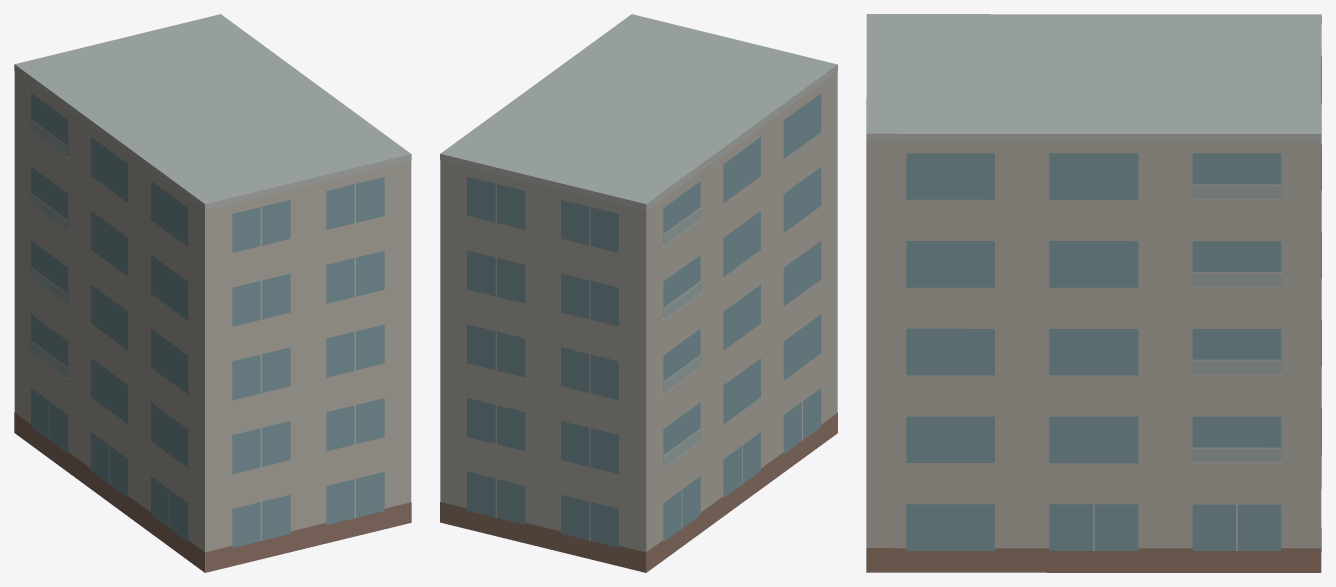
Rendered from survey-upis-32977775.glb.
The picture shows the model from 3 angles, left to right: view 1: azimuth 30°, elevation 25°; view 2: azimuth 150°, elevation 25°; view 3: azimuth 270°, elevation 25°; orthographic projection. The views are drawn at different scales.
Parts seen in each view (by area): view 1: survey-upis-32977775.tmp; view 2: survey-upis-32977775.tmp; view 3: survey-upis-32977775.tmp.
Boxes of the visible parts, left/top/right/bottom form: survey-upis-32977775.tmp: left=14, top=14, right=411, bottom=572; survey-upis-32977775.tmp: left=440, top=14, right=837, bottom=572; survey-upis-32977775.tmp: left=866, top=14, right=1321, bottom=572.
Bounding box in the file's own units: 7.92 × 13.4 × 12.61.
